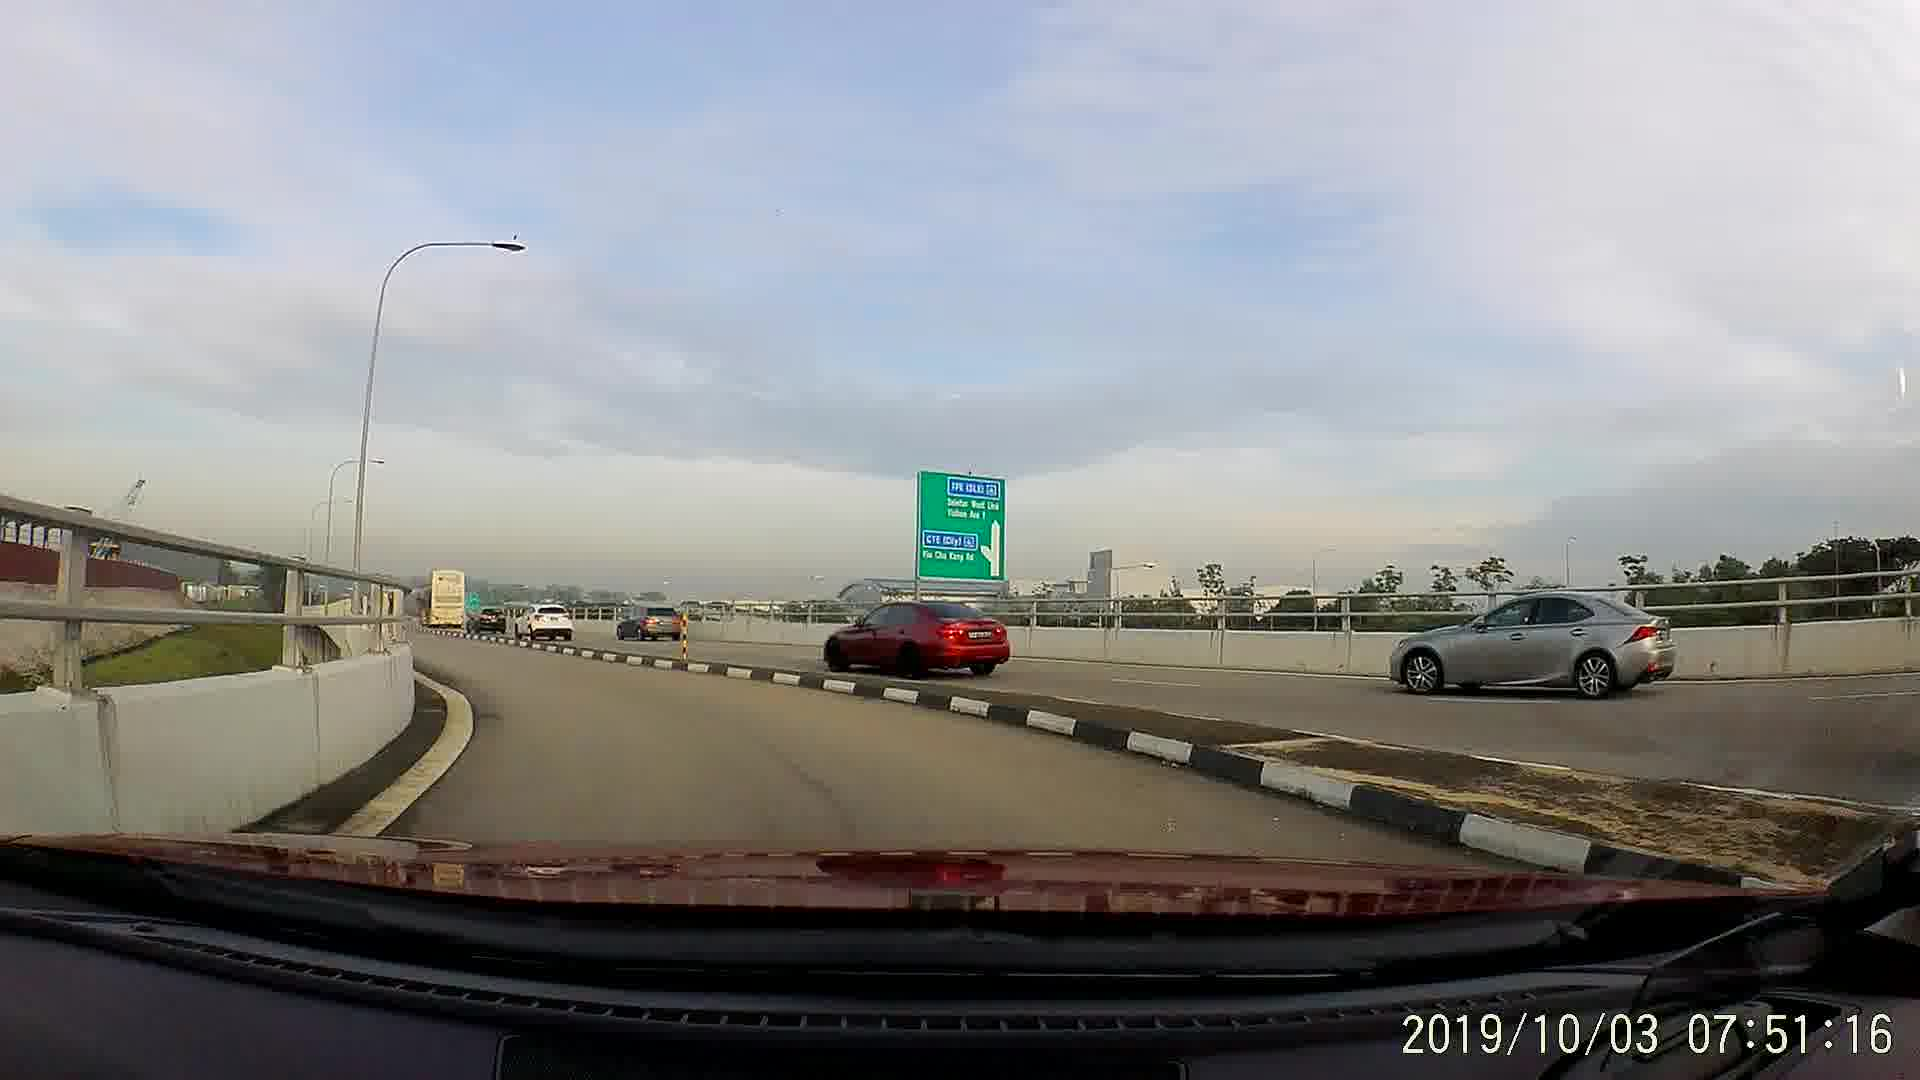bus: (406, 559, 468, 634)
car: (1385, 587, 1675, 696), (818, 593, 1017, 687), (615, 599, 684, 640), (509, 597, 574, 640), (475, 596, 505, 634)
